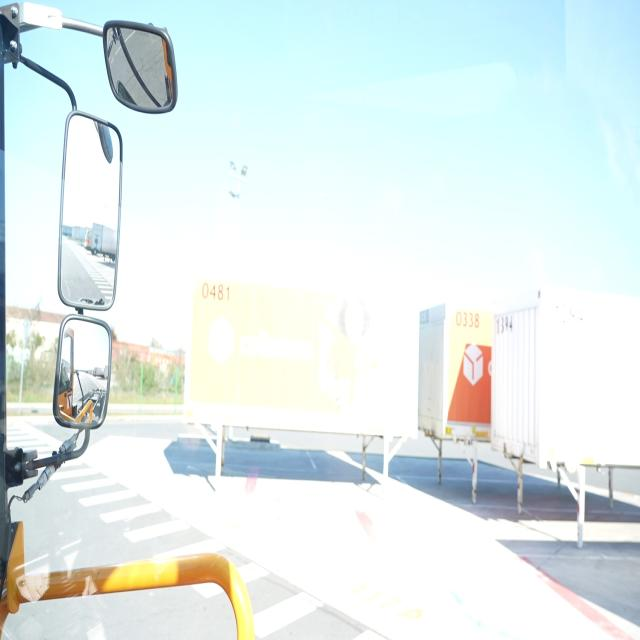Code: (199, 278, 236, 310), (454, 307, 484, 336)
